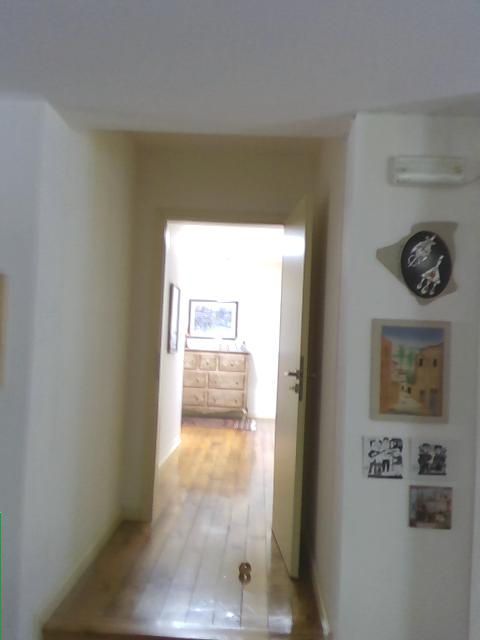open_door: (147, 208, 293, 531)
